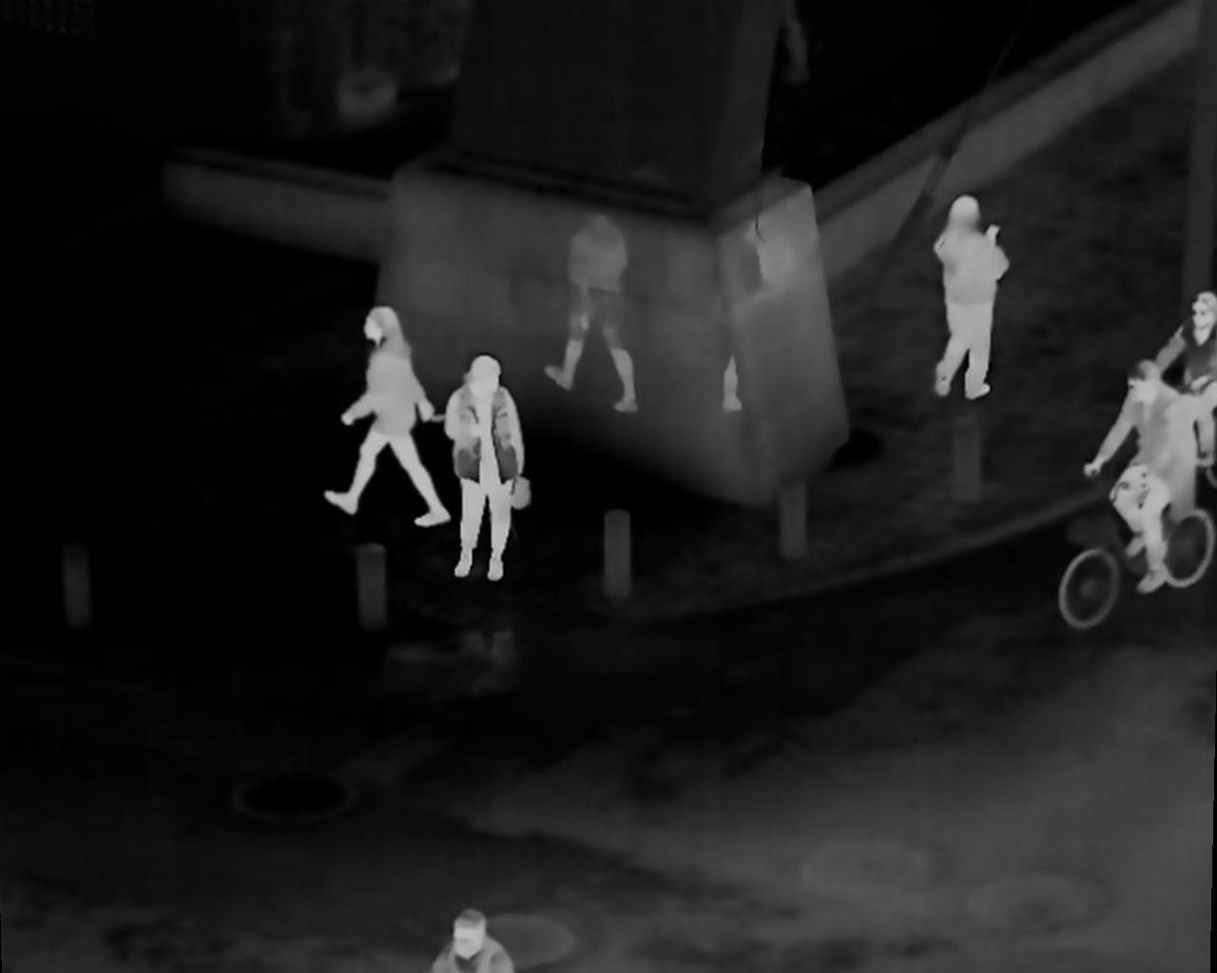person: (330, 307, 436, 535), (1101, 369, 1192, 601), (445, 362, 528, 579), (938, 197, 1004, 402), (1164, 295, 1210, 482), (433, 915, 496, 973)
